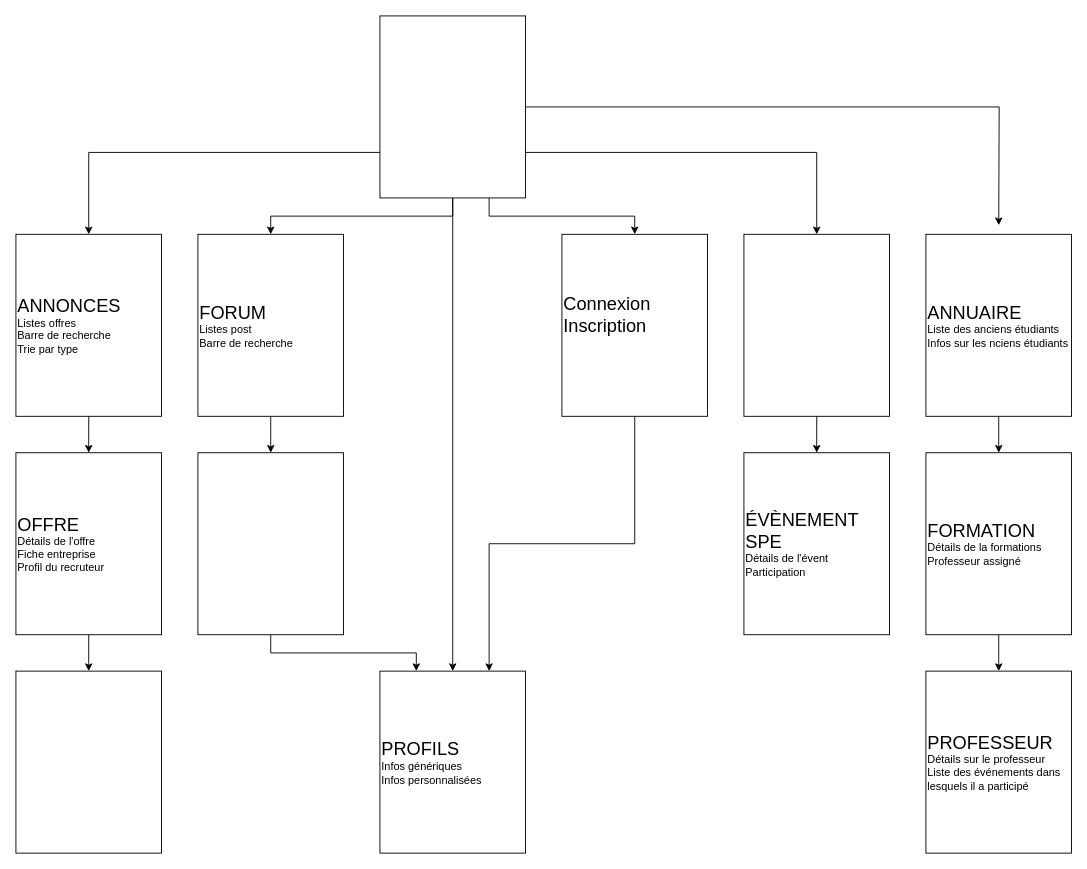
This 1087x869 diagram has some shape labels left out. The box of each missing label's shape, as (x1, y1, x2, y2) in pixels:
ENTREPRISE Fiche entreprise Membres de l'entreprises Offres posté: (15, 670, 162, 853)
Home - presentation - Offres récentes - Dernier post - Connexion/Inscri: (379, 15, 526, 198)
POST Réponse: (197, 452, 344, 635)
ÉVÈNEMENT Listes évènements Barre de recherche: (743, 233, 890, 416)
